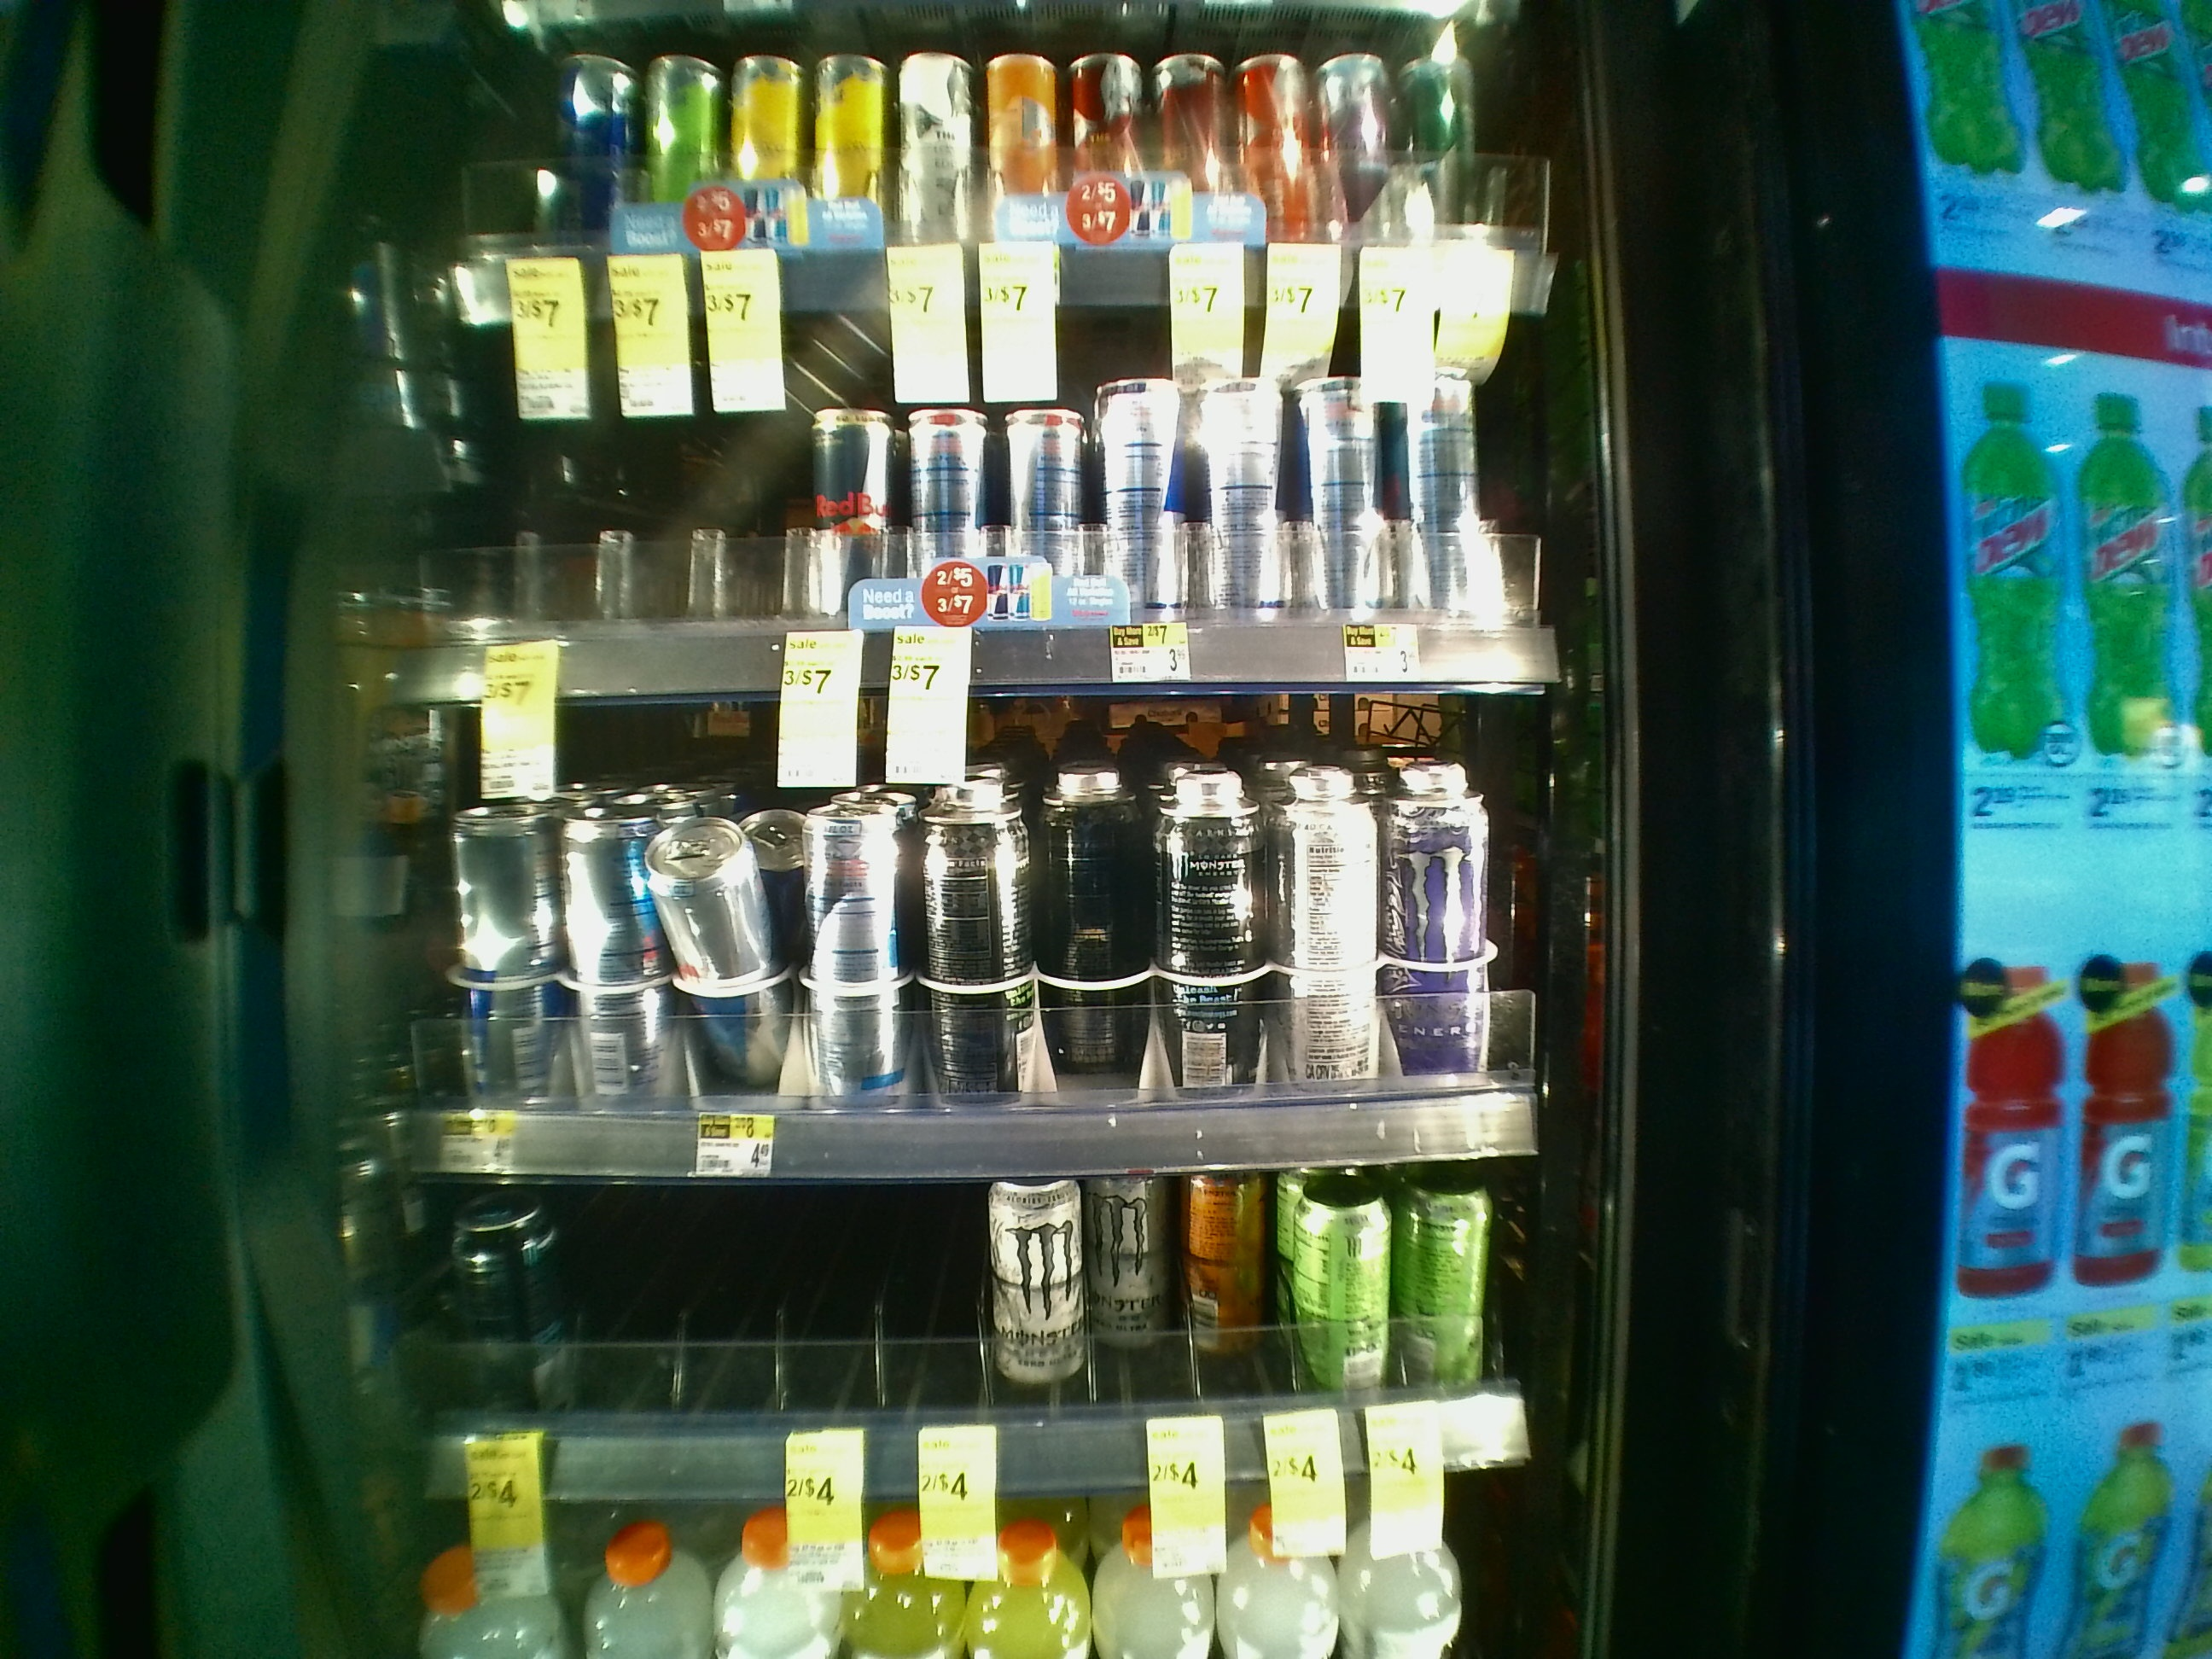shelf: (378, 695, 1611, 1176), (395, 312, 1604, 697)
